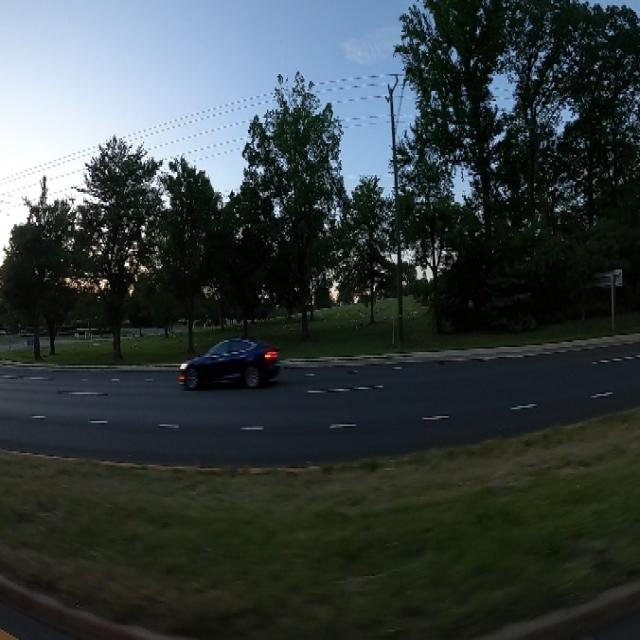cars: (168, 320, 288, 398)
